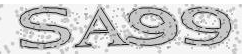9: (126, 6, 181, 51), (179, 5, 234, 49)
A: (73, 6, 129, 51)
S: (16, 4, 73, 51)
